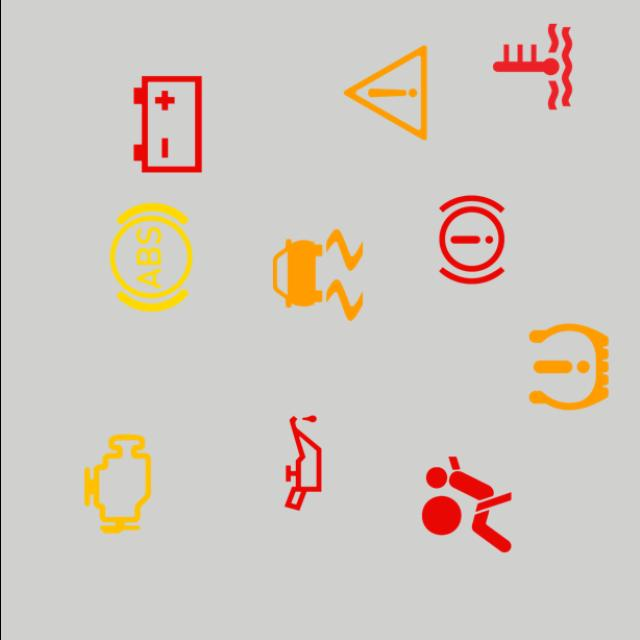Anti Lock Braking System: (90, 198, 210, 317)
Braking System Issue: (412, 180, 530, 299)
Charging System Issue: (108, 64, 226, 184)
Check Engine: (57, 424, 176, 543)
Electronic Stability Problem -ESP-: (258, 216, 376, 334)
Engine Overheating Warning Light: (472, 7, 591, 126)
Low Engine Oil Warning Light: (243, 403, 362, 522)
Low Tire Pressure Warning Light: (508, 308, 628, 427)
Master warning light: (325, 34, 444, 152)
SRS-Airbag: (406, 445, 526, 564)
